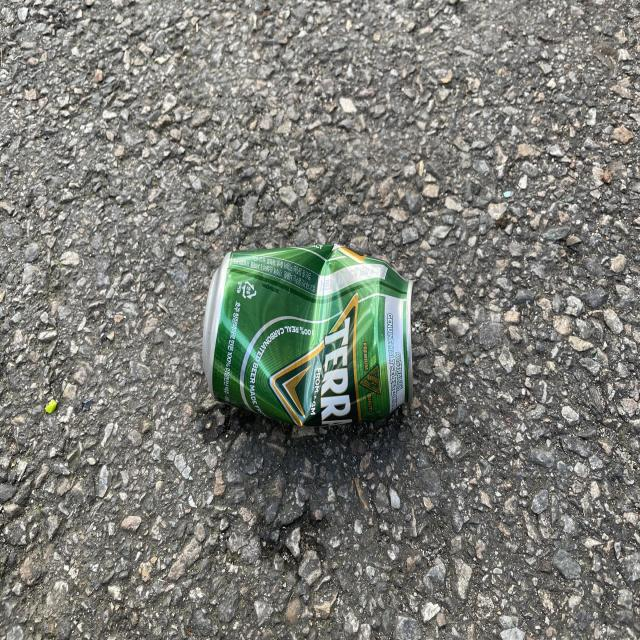can: (202, 244, 413, 427)
